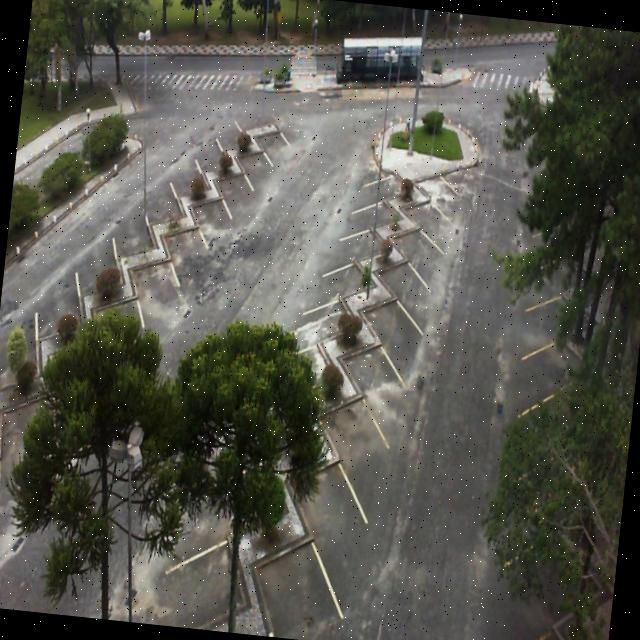empty: (151, 511, 256, 630), (252, 504, 340, 636), (286, 448, 375, 568), (313, 381, 391, 488), (338, 328, 409, 417), (32, 247, 88, 337), (352, 281, 419, 356), (70, 207, 128, 290), (284, 280, 354, 348), (124, 237, 178, 316), (374, 240, 436, 307), (108, 180, 160, 258), (316, 238, 378, 294), (160, 203, 208, 274), (388, 206, 446, 264), (322, 207, 384, 260), (185, 172, 232, 240), (140, 164, 188, 228), (403, 181, 457, 232), (349, 181, 405, 228), (168, 138, 211, 197), (416, 160, 467, 208), (213, 154, 258, 208), (232, 124, 276, 179), (213, 99, 255, 154), (193, 120, 234, 175), (356, 153, 408, 196), (252, 108, 290, 161)
